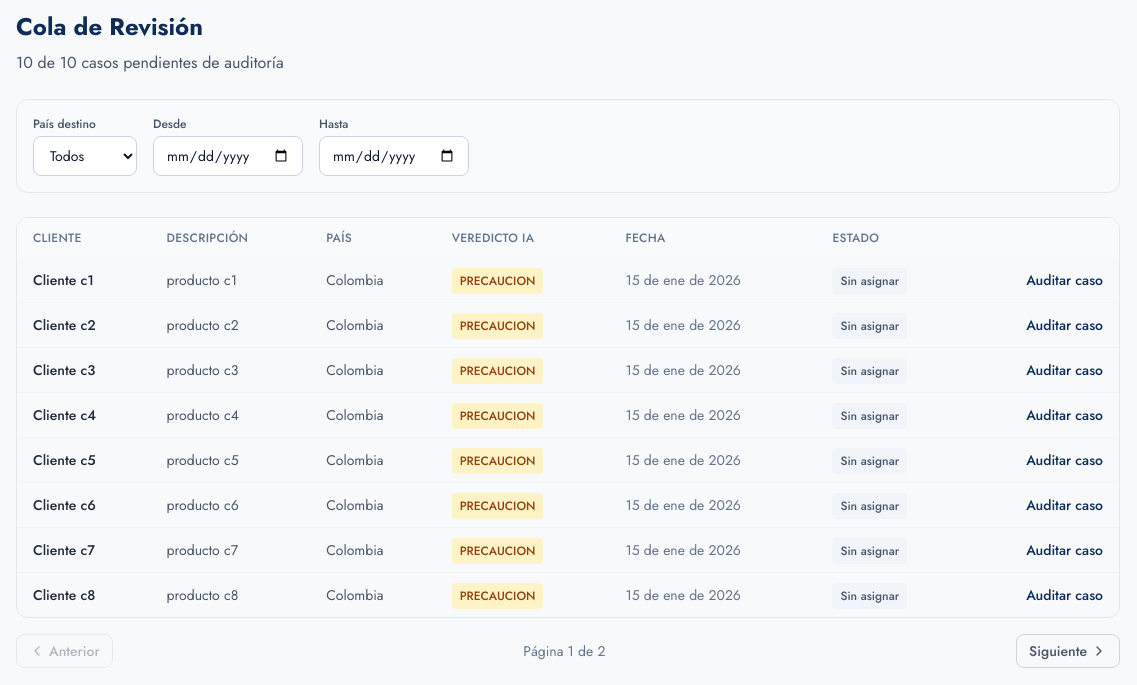
Test: AgentPanel › pagina cuando hay más de 8 casos
Expected: the text "Cliente c1" is shown, x1=33 y1=270 x2=94 y2=290
Expected: the text "Cliente c9" is not shown
Click the button "Siguiente".
click(1068, 651)  # box x1=1016 y1=634 x2=1120 y2=668
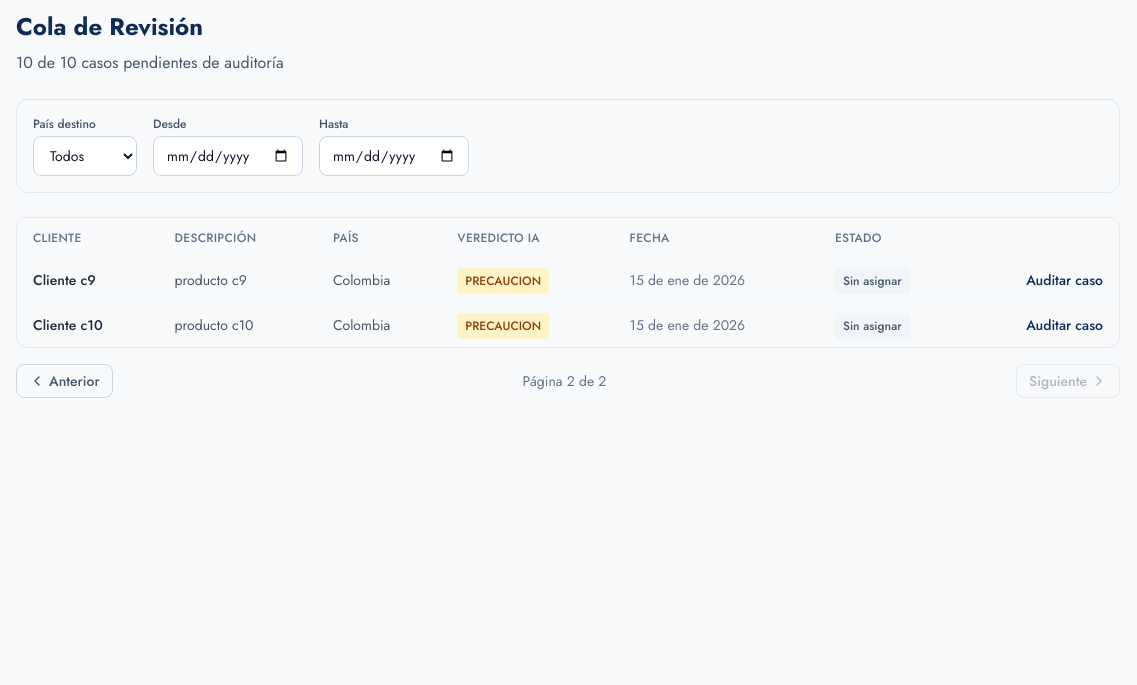
Now the text "Cliente c9" is shown, box x1=33 y1=270 x2=96 y2=290
